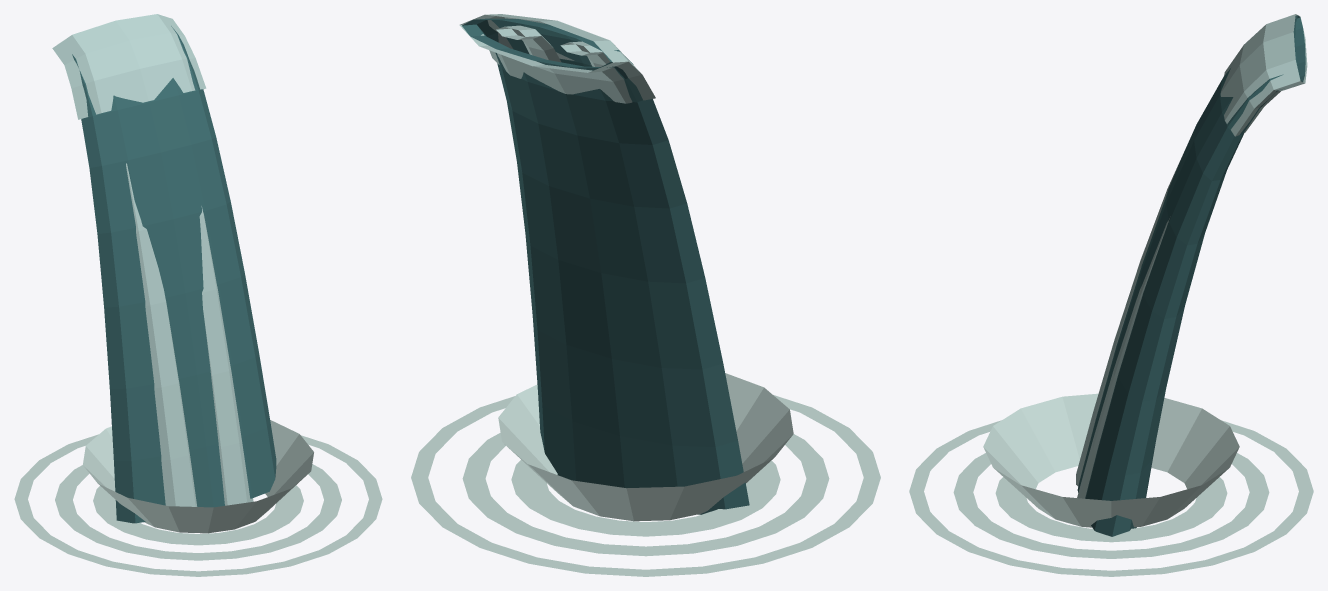
The model's file is waterfall.glb.
3 views of the same model, side by side, from view 1: azimuth 30°, elevation 25°; view 2: azimuth 150°, elevation 25°; view 3: azimuth 270°, elevation 25° (orthographic). The views are drawn at different scales.
Parts seen in each view (by area): view 1: waterfall__waterfall__fall-water, waterfall__waterfall__foam, waterfall__waterfall__foam-splash; view 2: waterfall__waterfall__fall-water, waterfall__waterfall__foam-splash, waterfall__waterfall__foam; view 3: waterfall__waterfall__foam-splash, waterfall__waterfall__fall-water, waterfall__waterfall__foam.
Part boxes in pixels (x1=…): waterfall__waterfall__fall-water: x1=72, y1=26, x2=276, y2=523; waterfall__waterfall__foam: x1=52, y1=14, x2=253, y2=506; waterfall__waterfall__foam-splash: x1=14, y1=420, x2=382, y2=576; waterfall__waterfall__fall-water: x1=462, y1=18, x2=749, y2=514; waterfall__waterfall__foam-splash: x1=411, y1=373, x2=880, y2=576; waterfall__waterfall__foam: x1=459, y1=14, x2=655, y2=103; waterfall__waterfall__foam-splash: x1=909, y1=393, x2=1313, y2=576; waterfall__waterfall__fall-water: x1=1077, y1=15, x2=1305, y2=536; waterfall__waterfall__foam: x1=1076, y1=14, x2=1307, y2=498.
Bounding box in the file's own units: 1.64 × 2.1 × 1.64.
